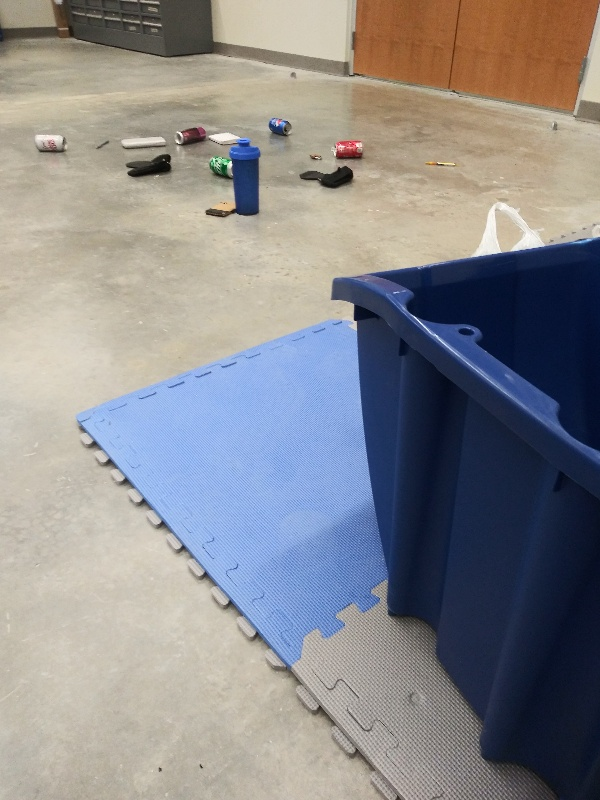can: (329, 138, 366, 160), (172, 125, 207, 146), (32, 133, 69, 152), (206, 154, 232, 176), (268, 116, 291, 138)
